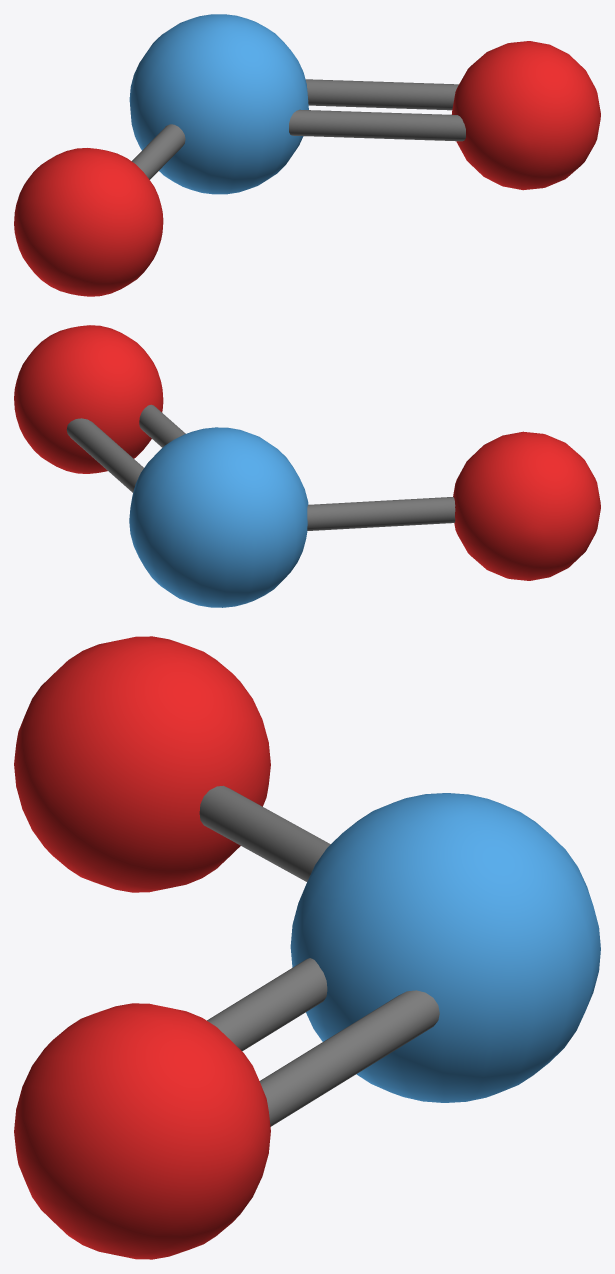
The picture shows the model from 3 angles, top to bottom: view 1: azimuth 30°, elevation 25°; view 2: azimuth 150°, elevation 25°; view 3: azimuth 270°, elevation 25°; orthographic projection. The views are drawn at different scales.
Visible parts, largest first — view 1: NO2; view 2: NO2; view 3: NO2.
Part boxes in pixels (left/top/right/bottom): NO2: left=14, top=14, right=600, bottom=296; NO2: left=14, top=325, right=600, bottom=607; NO2: left=14, top=636, right=600, bottom=1259.
Size of the model in its own units: 8.09 by 2.23 by 4.22.
